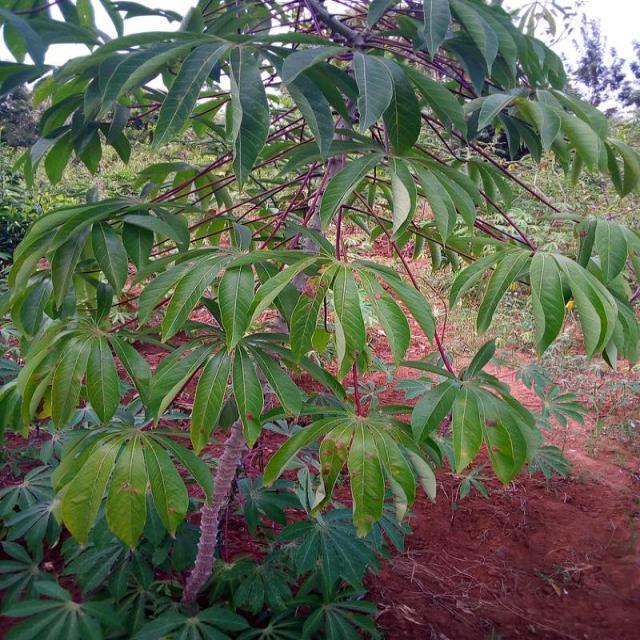cassava leaf: (1, 0, 637, 615)
